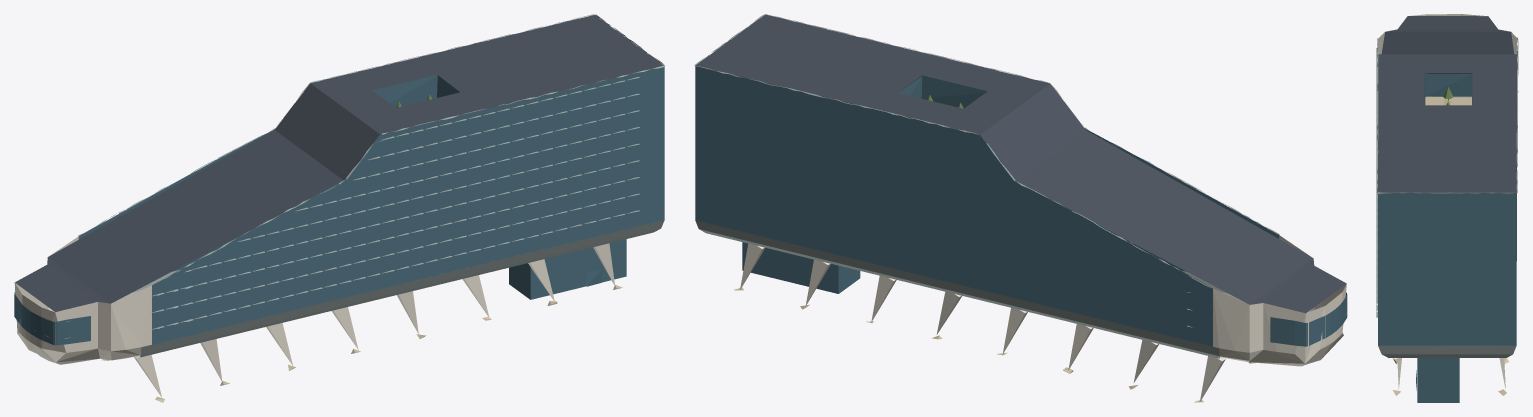
Rendered from ing-house.lod1.glb.
3 renders of one model, left to right at view 1: azimuth 30°, elevation 25°; view 2: azimuth 150°, elevation 25°; view 3: azimuth 270°, elevation 25°, orthographic.
Parts seen in each view (by area): view 1: ing-house; view 2: ing-house; view 3: ing-house.
Part boxes in pixels (x1,y1,x2,y2): ing-house: (14,14,664,402); ing-house: (694,14,1347,402); ing-house: (1376,14,1518,402).
Bounding box in the file's own units: 138 × 48.56 × 28.39.
